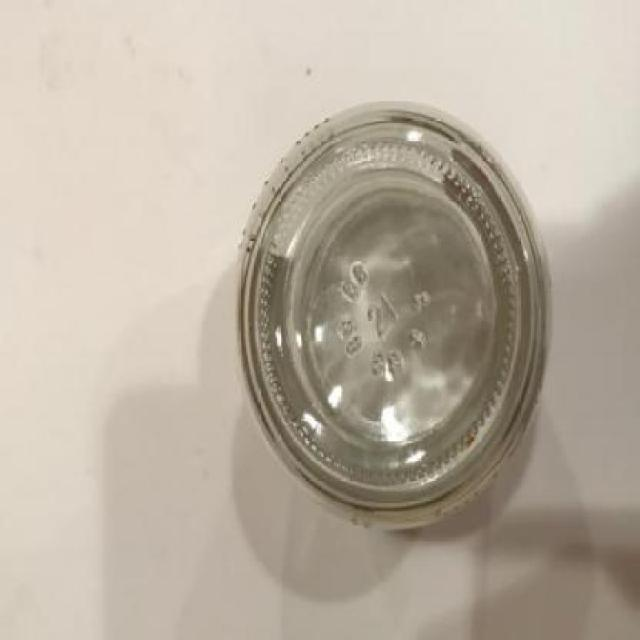kaca: (238, 102, 550, 530)
